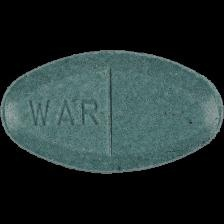52125-501: (0, 0, 224, 224)
